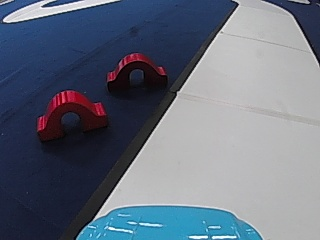bridge: (31, 86, 109, 139), (104, 48, 170, 94)
